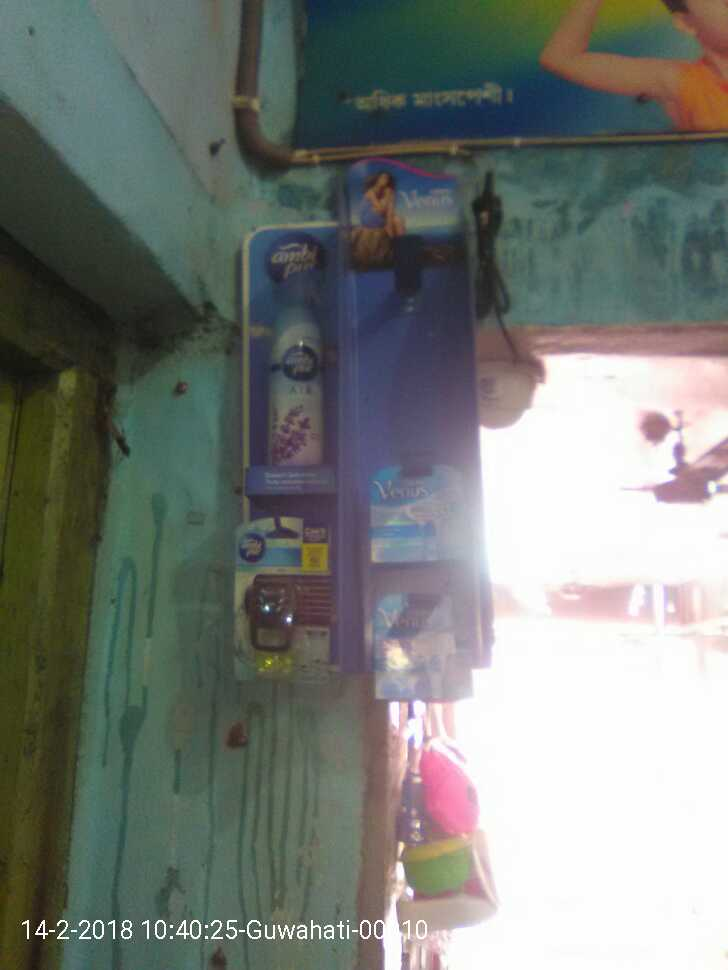beauty: (370, 473, 476, 572)
home: (230, 522, 336, 685), (258, 259, 336, 469)
